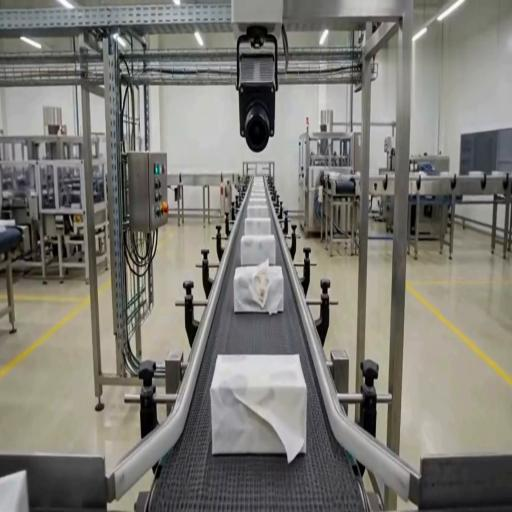defective: (210, 354, 306, 460), (233, 262, 285, 315), (0, 470, 28, 511)
good: (241, 234, 275, 266), (244, 217, 272, 235), (246, 204, 270, 220)
